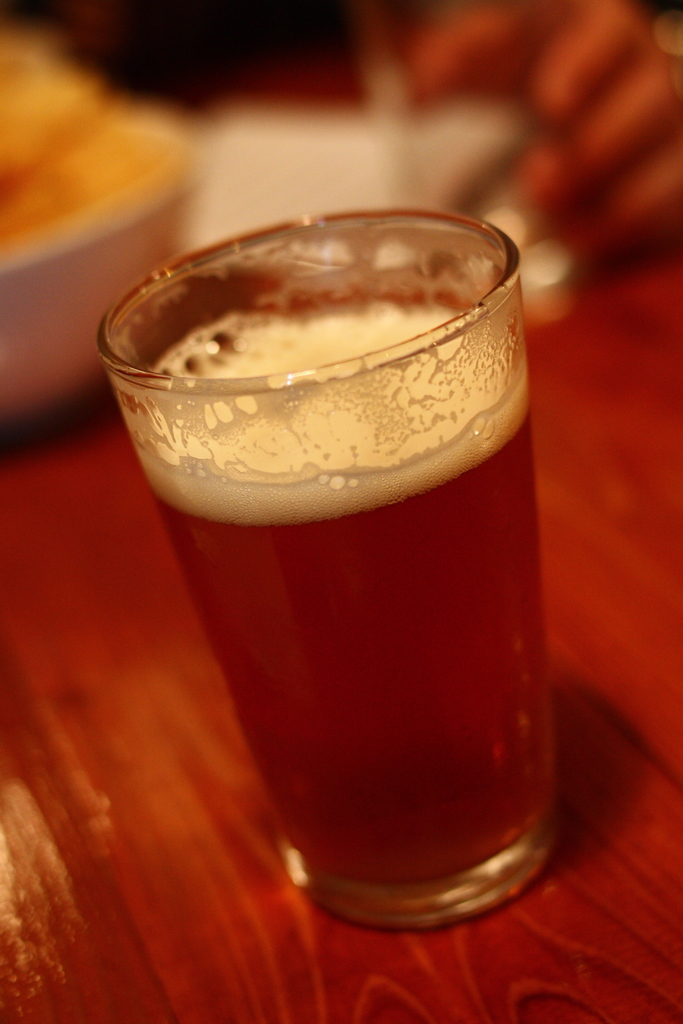Beer: (142, 305, 551, 893)
